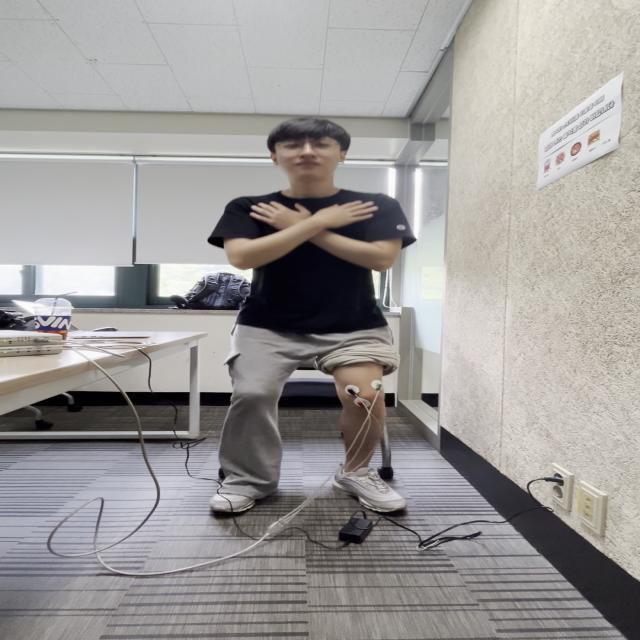stand: (223, 189, 403, 426), (225, 304, 387, 428), (314, 334, 405, 518), (208, 322, 290, 516)
